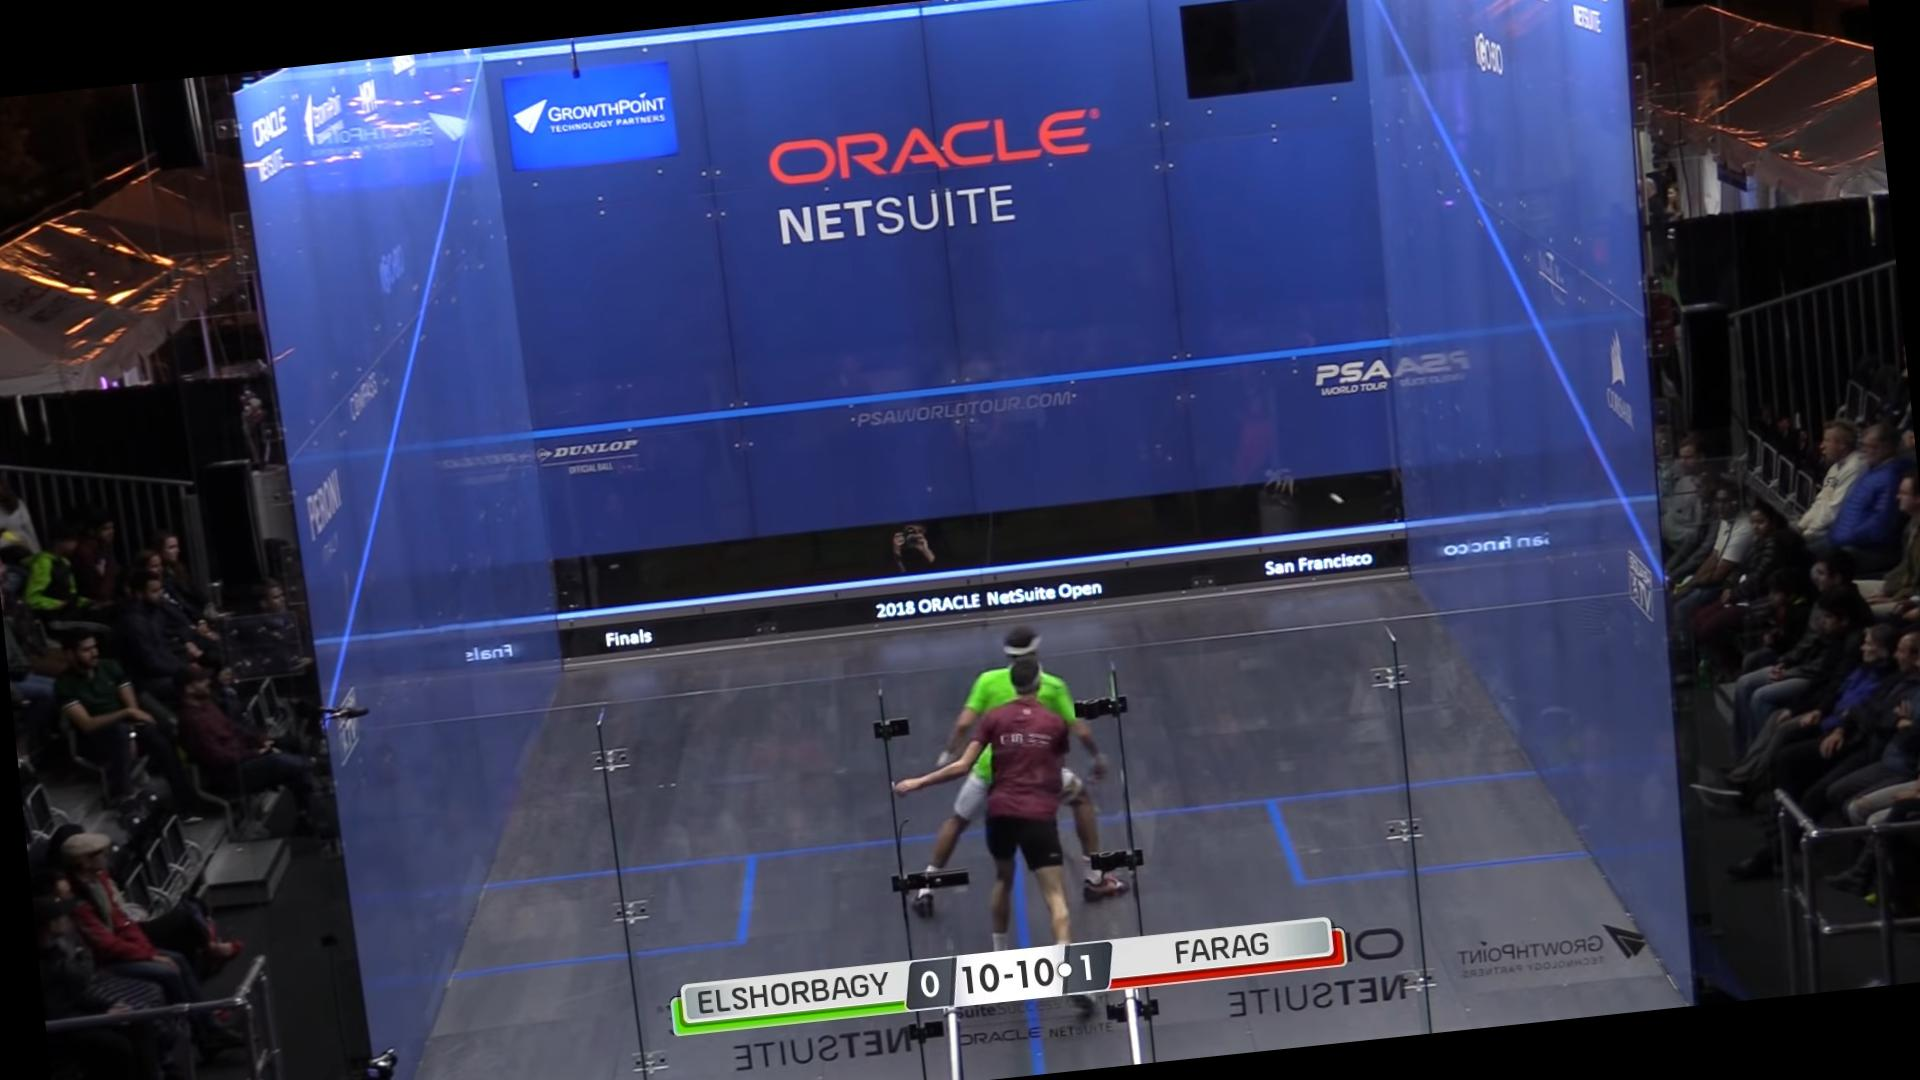Squash-Ball: (1329, 491, 1356, 514)
